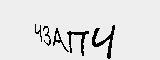А: (48, 26, 70, 54)
З: (42, 22, 54, 49)
П: (66, 28, 89, 58)
Ч: (91, 22, 116, 58), (32, 22, 42, 47)
